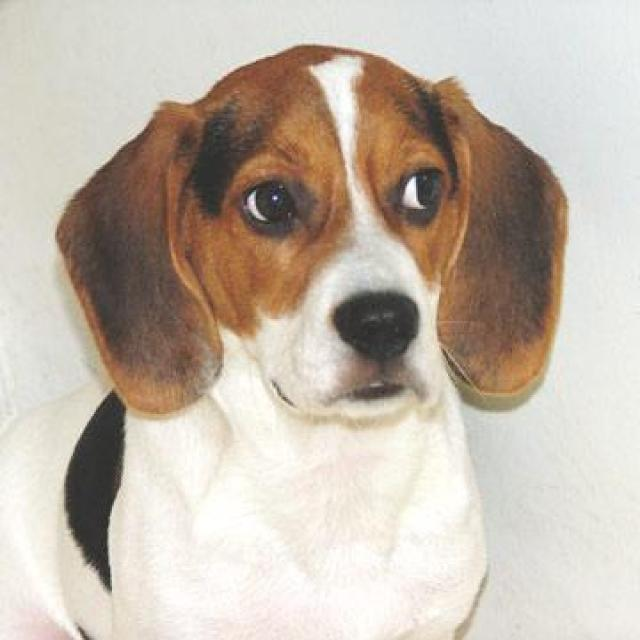beagle: (48, 38, 576, 636)
